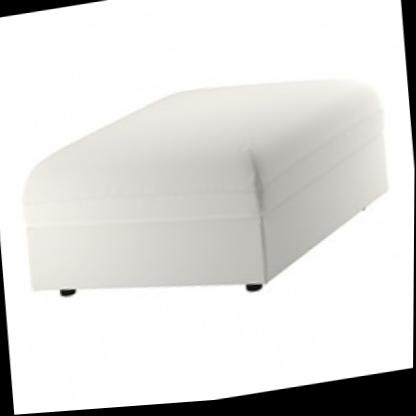Sofa: (1, 5, 407, 357)
